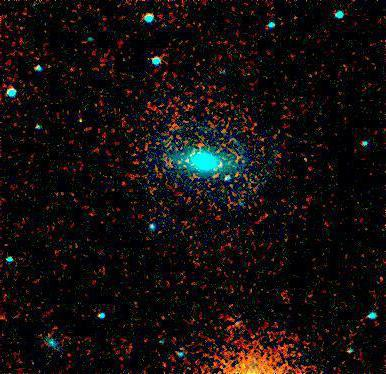star: (65, 105, 95, 135)
